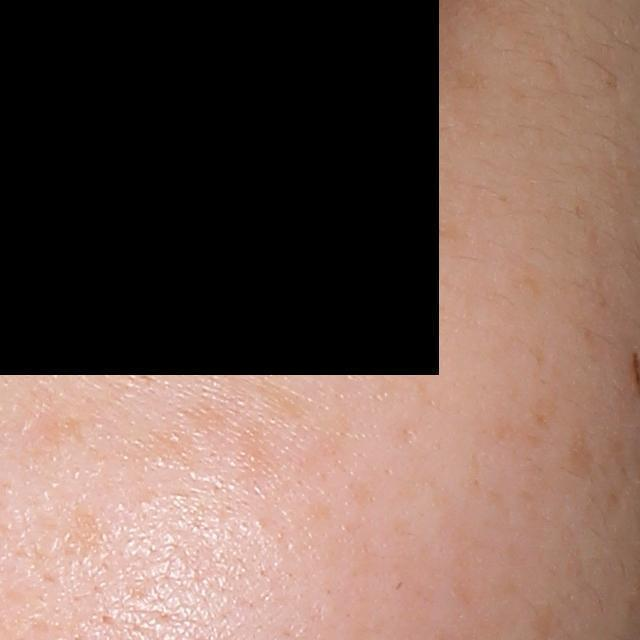melasma: (249, 371, 309, 425), (30, 413, 94, 453), (173, 402, 230, 444), (67, 507, 109, 558), (563, 421, 597, 479)
